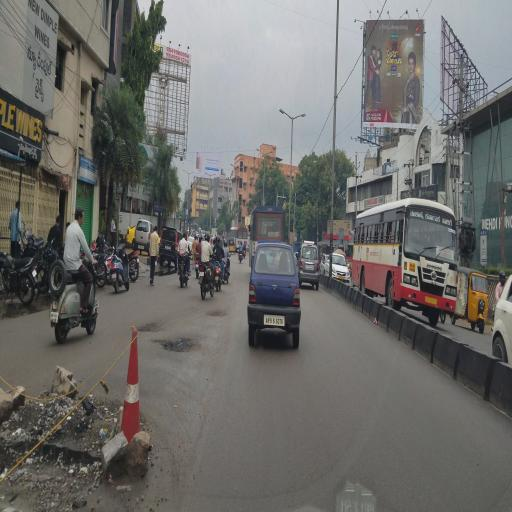street_light_0: (289, 106, 311, 130), (273, 100, 293, 124)
